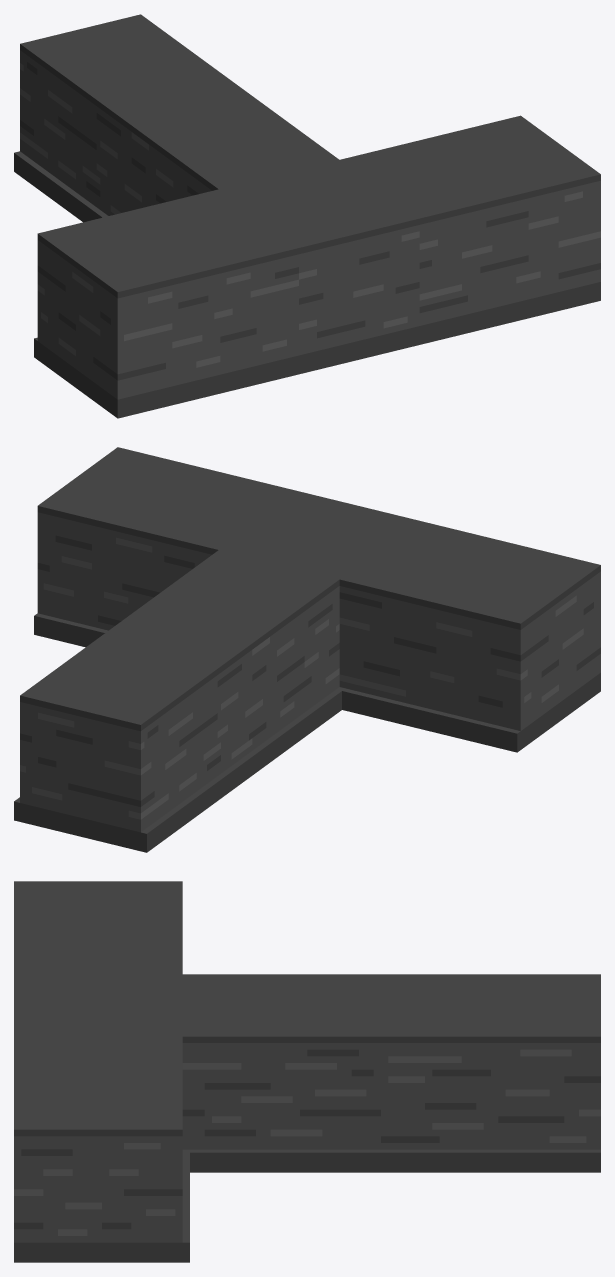
Rendered from Wall - tshape.obj.
3 views of the same model, one above another, from view 1: azimuth 30°, elevation 25°; view 2: azimuth 150°, elevation 25°; view 3: azimuth 270°, elevation 25° (orthographic). The views are drawn at different scales.
Size of the model in its own units: 8 by 2 by 8.
Materials: 1 (1 with a texture image).
